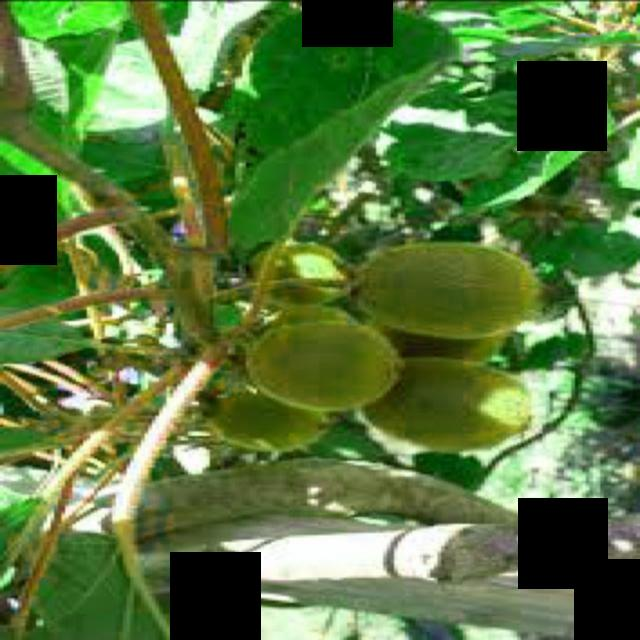kiwi: (352, 240, 537, 337), (352, 355, 529, 450), (243, 319, 399, 404), (200, 389, 327, 450), (240, 242, 352, 303)
